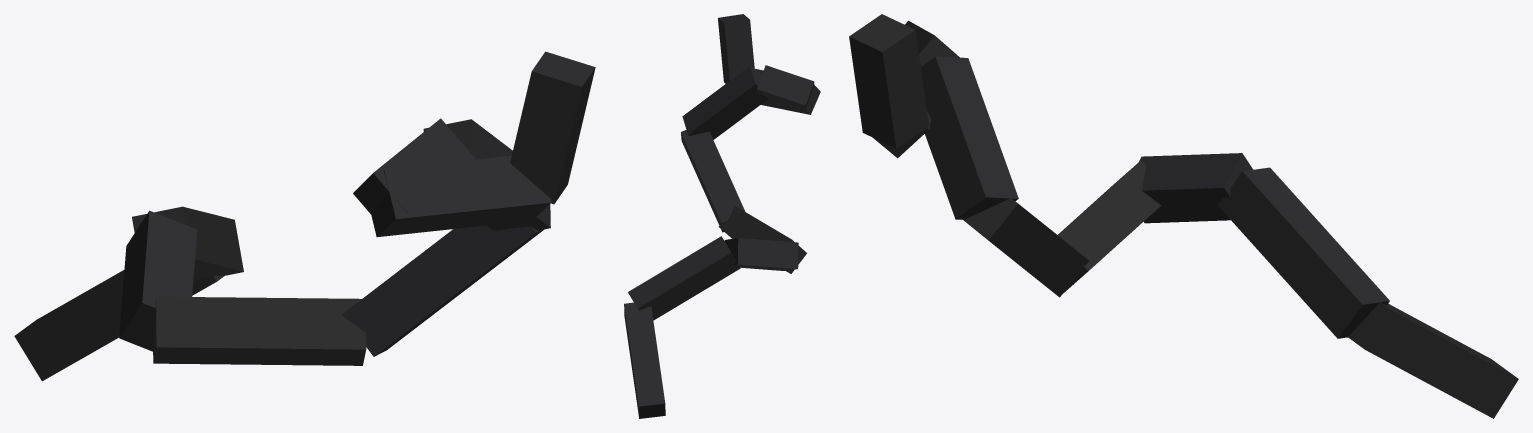
Rendered from prc25_cord.glb.
3 renders of one model, left to right at view 1: azimuth 30°, elevation 25°; view 2: azimuth 150°, elevation 25°; view 3: azimuth 270°, elevation 25°, orthographic. The views are drawn at different scales.
Visible parts, largest first — view 1: prc25_cord; view 2: prc25_cord; view 3: prc25_cord.
Part boxes in pixels (x1,y1,x2,y2): prc25_cord: [14, 51, 595, 381]; prc25_cord: [624, 14, 820, 418]; prc25_cord: [849, 14, 1518, 418].
Bounding box in the file's own units: 0.0609 × 0.0907 × 0.1202.
1 material, 1 textured.
